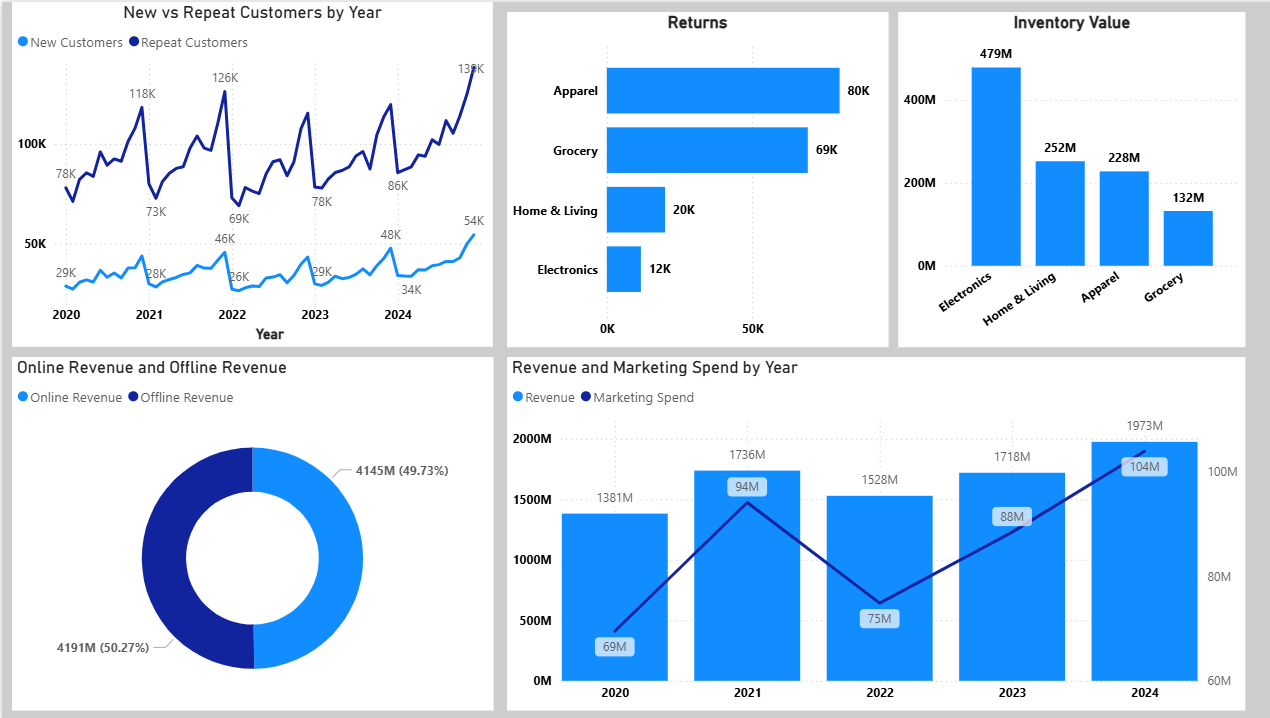

Layout of this report page (visuals, bound fields, positions):
{"tool":"powerbi","page":{"name":"Customer & Operations Analysis","canvas":[1280,720],"ordinal":2},"visuals":[{"type":"lineChart","title":"New vs Repeat Customers by Year","fields":{"Category":["DateTable.YearMonth"],"Y":["Sum(FinancialData.New Customers)","Sum(FinancialData.Repeat Customers)"]},"box":[10,0,481,345],"z":0},{"type":"barChart","title":"Returns","fields":{"Category":["FinancialData.Category"],"Y":["Sum(FinancialData.Returns)"]},"box":[505,10,381.2,335],"z":1000},{"type":"donutChart","fields":{"Y":["Sum(FinancialData.Online Revenue)","Sum(FinancialData.Offline Revenue)"]},"box":[10,355,481.2,353.8],"z":2000},{"type":"columnChart","title":"Inventory Value","fields":{"Category":["FinancialData.Category"],"Y":["Sum(FinancialData.Inventory Value)"]},"box":[896.2,10,347.5,335],"z":3000},{"type":"lineStackedColumnComboChart","fields":{"Y":["Sum(FinancialData.Revenue)"],"Category":["DateTable.Year"],"Y2":["Sum(FinancialData.Marketing Spend)"]},"box":[505,355,738.8,353.8],"z":4000}]}

Visuals, with their boxes in screenshot pixels (x1, y1, x2, y2), scaled from the page's 1280x720 canvas onto the 1270x718 screenshot:
"New vs Repeat Customers by Year" lineChart: 10 0 487 344
"Returns" barChart: 501 10 879 344
donutChart - Sum(FinancialData.Online Revenue) x Sum(FinancialData.Offline Revenue): 10 354 487 707
"Inventory Value" columnChart: 889 10 1234 344
lineStackedColumnComboChart - Sum(FinancialData.Revenue) x DateTable.Year: 501 354 1234 707
